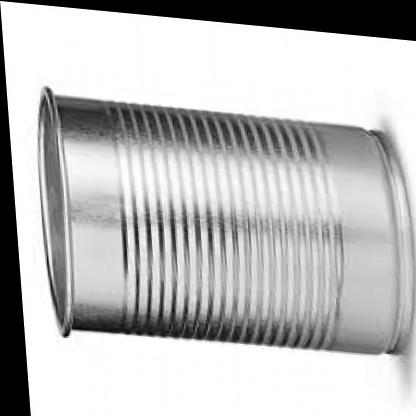Metal: (12, 60, 416, 388)
